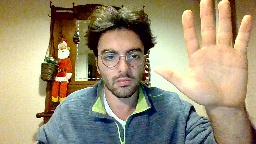Mano_aperta: (150, 0, 256, 112)
